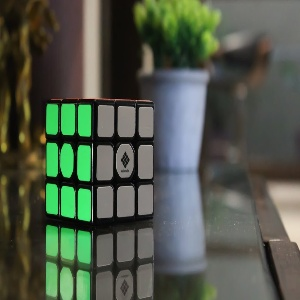cube: (46, 100, 155, 228)
